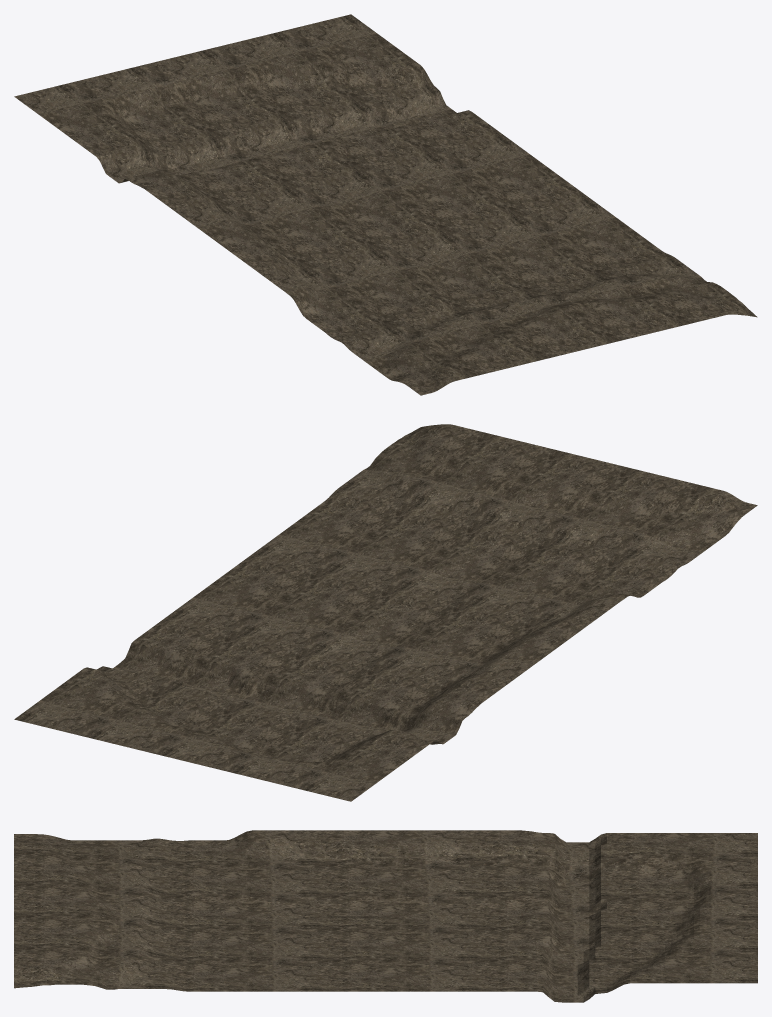
File: Tierra_10.glb
3 views of the same model, one above another, from view 1: azimuth 30°, elevation 25°; view 2: azimuth 150°, elevation 25°; view 3: azimuth 270°, elevation 25° (orthographic). The views are drawn at different scales.
Parts seen in each view (by area): view 1: Tierra; view 2: Tierra; view 3: Tierra.
Part boxes in pixels (bbox=[...]): Tierra: bbox=[14, 14, 757, 395]; Tierra: bbox=[14, 424, 757, 801]; Tierra: bbox=[14, 830, 757, 1002].
Bounding box in the file's own units: 253 × 18.64 × 529.
1 material, 1 textured.
